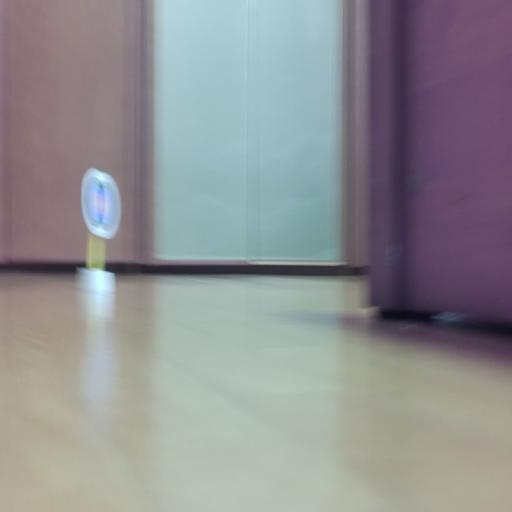target: (81, 169, 121, 239)
